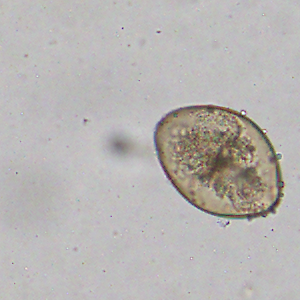Fasciola_hepatica_egg: (151, 102, 285, 220)
